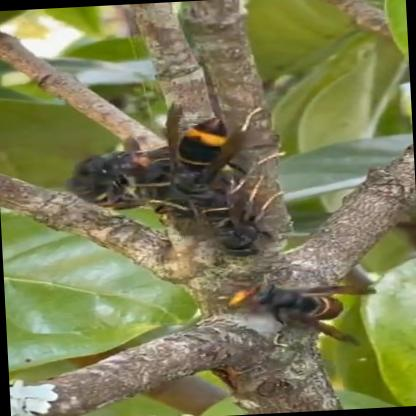bee: (64, 90, 284, 278), (194, 271, 385, 358)
